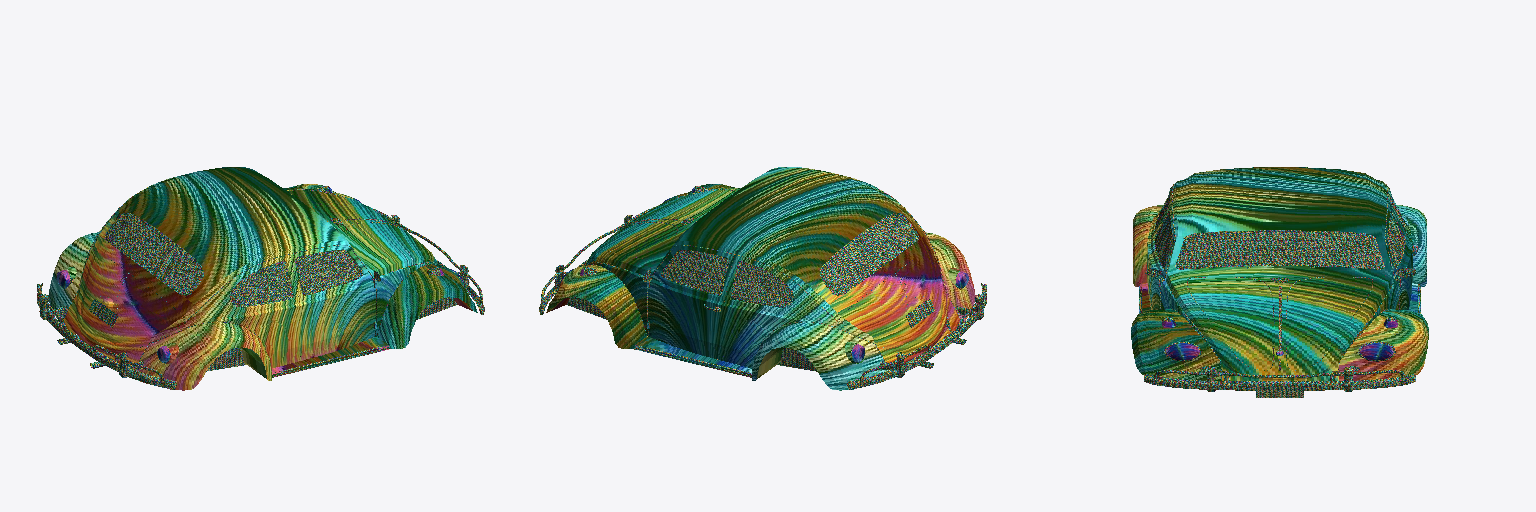
The picture shows the model from 3 angles: view 1: azimuth 30°, elevation 25°; view 2: azimuth 150°, elevation 25°; view 3: azimuth 270°, elevation 25°; orthographic projection.
Parts seen in each view (by area): view 1: herbie; view 2: herbie; view 3: herbie.
Boxes of the visible parts, x1,y1,x2,y2 form: herbie: [37, 167, 484, 390]; herbie: [539, 167, 986, 390]; herbie: [1131, 167, 1428, 397].
Bounding box in the file's own units: 1.66 × 0.5121 × 1.18.
1 materials, 1 textured.